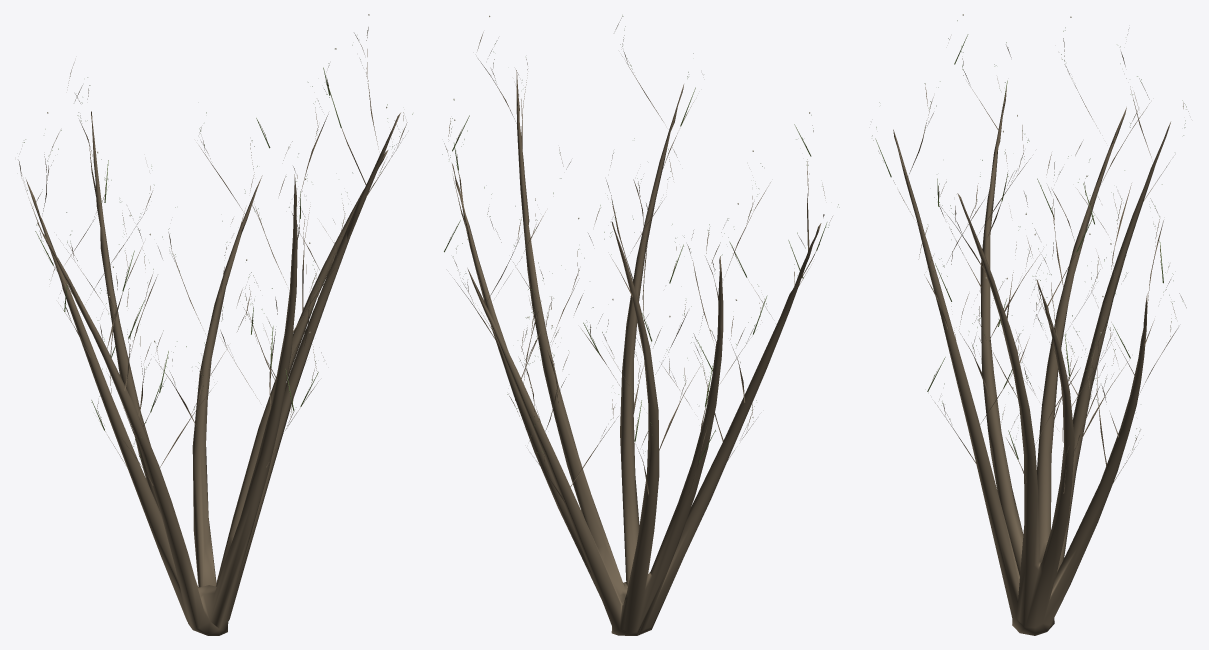
File: Bruyere_2_Niveau1.fbx
3 views of the same model, side by side, from view 1: azimuth 30°, elevation 25°; view 2: azimuth 150°, elevation 25°; view 3: azimuth 270°, elevation 25° (orthographic).
Visible parts, largest first — view 1: Bruyere_2_Niveau1; view 2: Bruyere_2_Niveau1; view 3: Bruyere_2_Niveau1.
Part boxes in pixels (left/top/right/bottom): Bruyere_2_Niveau1: left=18, top=14, right=412, bottom=635; Bruyere_2_Niveau1: left=442, top=15, right=839, bottom=635; Bruyere_2_Niveau1: left=872, top=14, right=1188, bottom=635.
Size of the model in its own units: 148 by 216 by 109.
